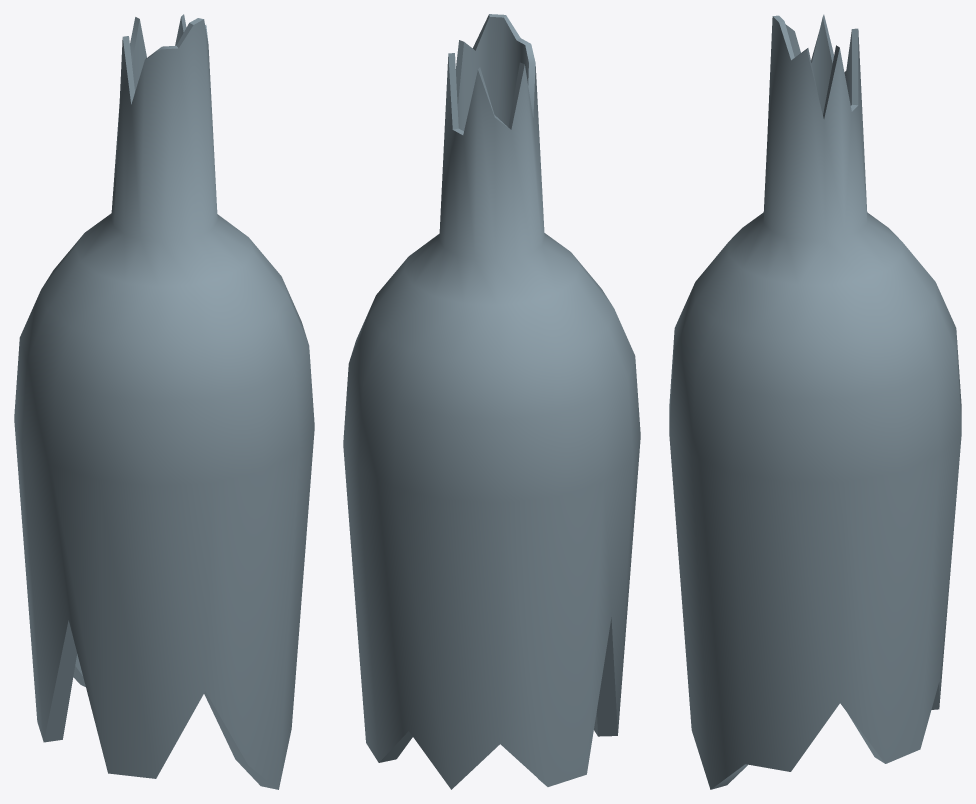
The model's file is Botella_05.001.fbx.
3 renders of one model, left to right at view 1: azimuth 30°, elevation 25°; view 2: azimuth 150°, elevation 25°; view 3: azimuth 270°, elevation 25°, orthographic.
Visible parts, largest first — view 1: Botella_05.001; view 2: Botella_05.001; view 3: Botella_05.001.
Boxes of the visible parts, left/top/right/bottom form: Botella_05.001: left=14, top=14, right=314, bottom=789; Botella_05.001: left=343, top=14, right=640, bottom=789; Botella_05.001: left=669, top=14, right=961, bottom=789.
Bounding box in the file's own units: 27.8 × 78.4 × 27.8.
